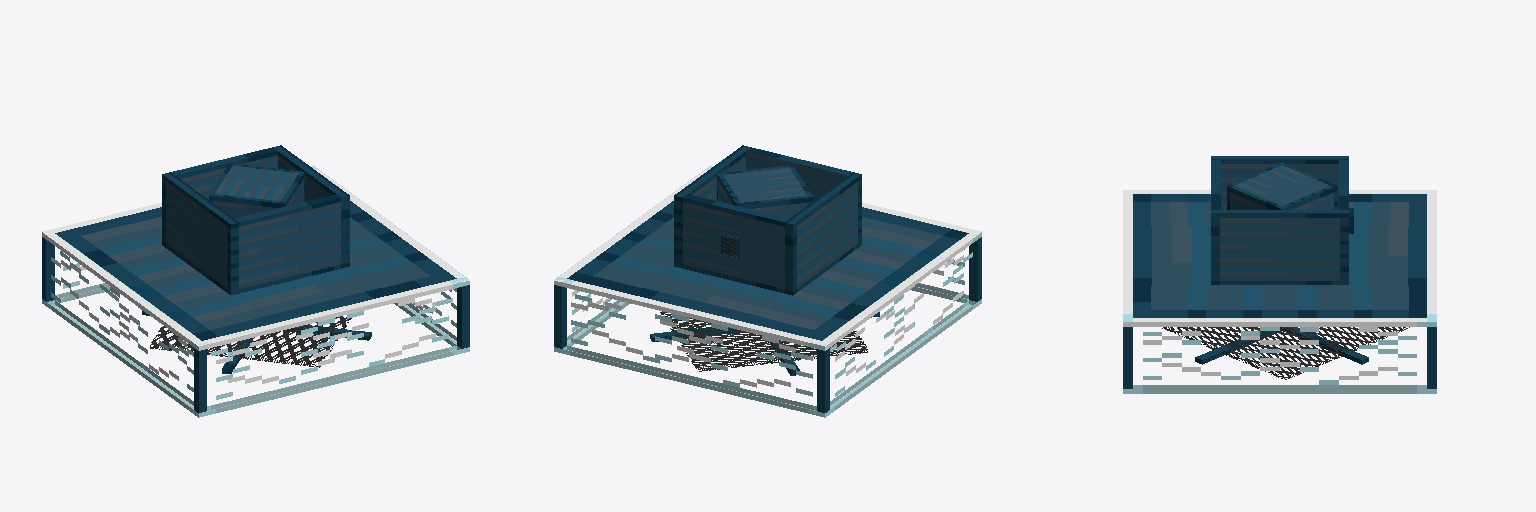
3 renders of one model, left to right at view 1: azimuth 30°, elevation 25°; view 2: azimuth 150°, elevation 25°; view 3: azimuth 270°, elevation 25°, orthographic.
Visible parts, largest first — view 1: LEFT, South, south, left, Left, RIGHT, SOUTH, Big, Fan2, right, north2, Right (+5 smaller); view 2: LEFT, North, north2, left, Left, RIGHT, NORTH, Big, Fan2, south, right, Right (+5 smaller); view 3: right, RIGHT, Right, LEFT, SOUTH, NORTH, Big, Fan2, left, North, South, Left (+3 smaller).
Boxes of the visible parts, x1=… form: LEFT: x1=55, y1=217, x2=269, y2=340; South: x1=194, y1=277, x2=469, y2=417; south: x1=235, y1=194, x2=340, y2=293; left: x1=162, y1=172, x2=238, y2=295; Left: x1=42, y1=232, x2=206, y2=417; RIGHT: x1=350, y1=201, x2=456, y2=294; SOUTH: x1=232, y1=267, x2=388, y2=323; Big: x1=209, y1=163, x2=304, y2=218; Fan2: x1=142, y1=311, x2=371, y2=367; right: x1=273, y1=145, x2=349, y2=268; north2: x1=171, y1=147, x2=277, y2=199; Right: x1=316, y1=169, x2=469, y2=349; LEFT: x1=754, y1=217, x2=968, y2=340; North: x1=554, y1=277, x2=829, y2=417; north2: x1=683, y1=194, x2=788, y2=293; left: x1=785, y1=172, x2=861, y2=295; Left: x1=817, y1=230, x2=981, y2=417; RIGHT: x1=567, y1=201, x2=673, y2=294; NORTH: x1=635, y1=267, x2=791, y2=323; Big: x1=717, y1=165, x2=812, y2=218; Fan2: x1=660, y1=311, x2=867, y2=375; south: x1=746, y1=147, x2=852, y2=200; right: x1=674, y1=145, x2=750, y2=268; Right: x1=554, y1=165, x2=710, y2=349; right: x1=1211, y1=210, x2=1348, y2=284; RIGHT: x1=1133, y1=285, x2=1426, y2=317; Right: x1=1123, y1=318, x2=1436, y2=393; LEFT: x1=1133, y1=194, x2=1426, y2=226; SOUTH: x1=1133, y1=227, x2=1210, y2=284; NORTH: x1=1349, y1=227, x2=1426, y2=284; Big: x1=1227, y1=162, x2=1337, y2=209; Fan2: x1=1162, y1=327, x2=1409, y2=379; left: x1=1211, y1=156, x2=1348, y2=209; North: x1=1427, y1=190, x2=1436, y2=321; South: x1=1123, y1=190, x2=1132, y2=321; Left: x1=1123, y1=190, x2=1436, y2=193.
Bounding box in the file's own units: 32 × 16 × 32.
3 materials, 3 textured.